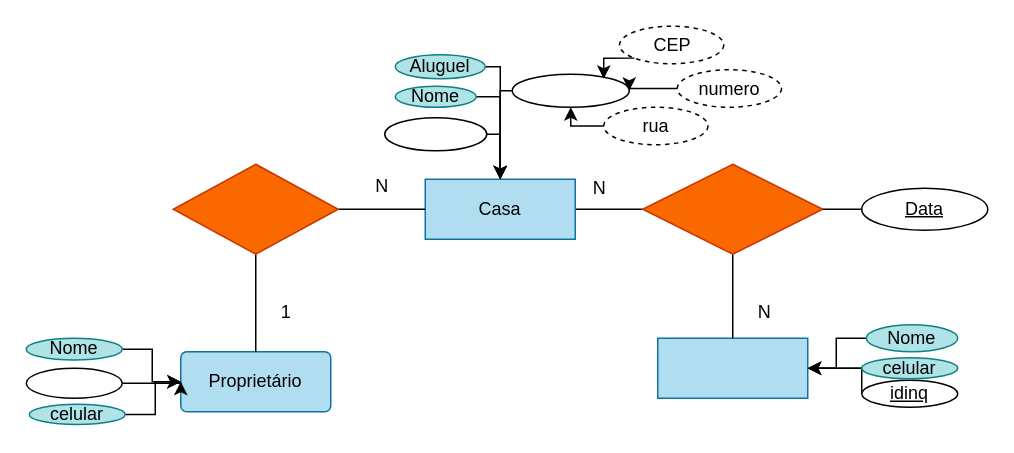
The diagram is 1014 pixels wide and 453 high, and some of its shapes have lost their labels. The shapes that lost their labels are listed below. From the top down, each one's centre as x and y in pixels, then its label:
point (570, 90): Endereço
point (435, 133): idmov
point (255, 208): possui
point (732, 208): Posui
point (73, 382): idprop
point (732, 367): Inquilino
